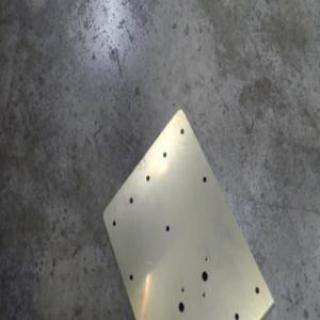MetalSheettrack_idkeyframe: (100, 103, 276, 319)
